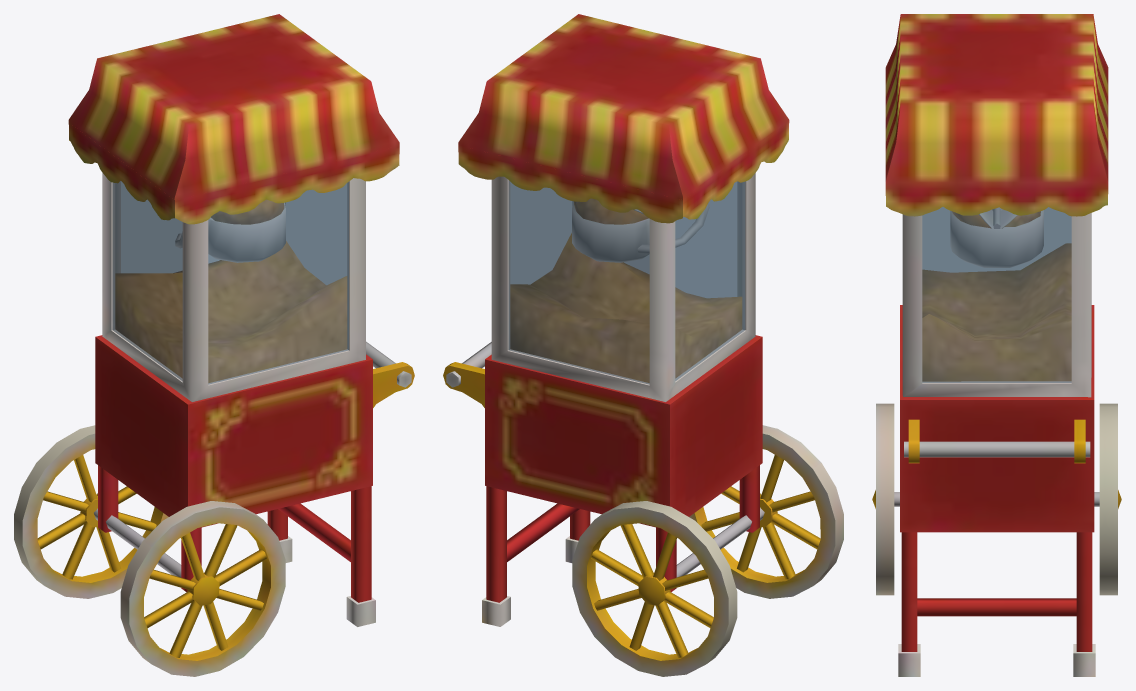
3 renders of one model, left to right at view 1: azimuth 30°, elevation 25°; view 2: azimuth 150°, elevation 25°; view 3: azimuth 270°, elevation 25°, orthographic. The views are drawn at different scales.
Bounding box in the file's own units: 9.63 × 16.56 × 6.6.
3 materials, 2 textured.
